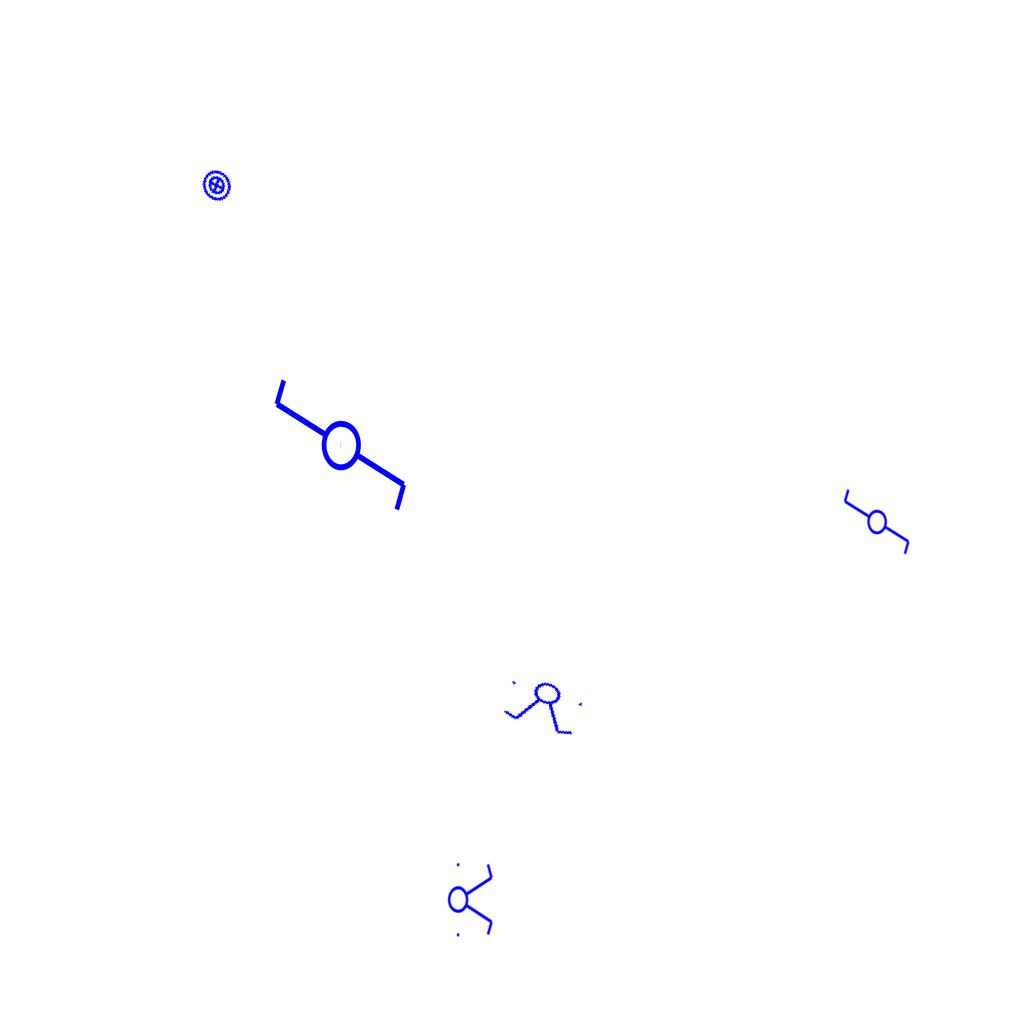Serienschalter: (496, 670, 592, 742), (447, 857, 495, 941)
Taster_beleuchtet: (194, 163, 239, 208)
Wechselschalter: (267, 375, 411, 532), (840, 487, 912, 565)
